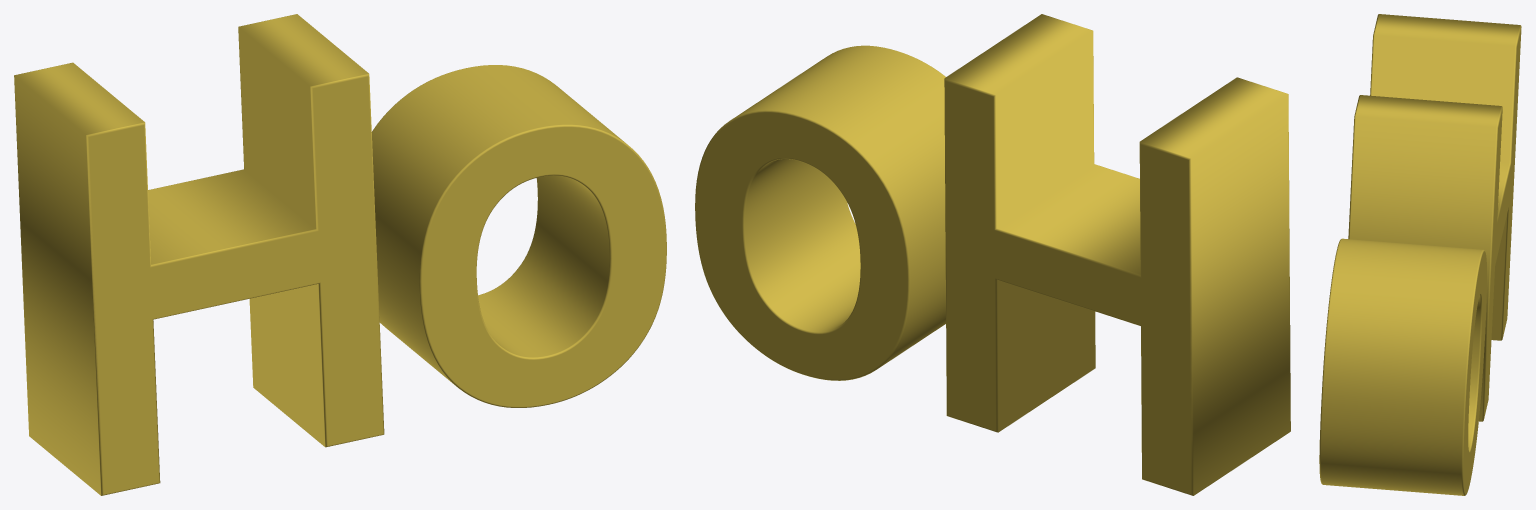
3 views of the same model, side by side, from view 1: azimuth 30°, elevation 25°; view 2: azimuth 150°, elevation 25°; view 3: azimuth 270°, elevation 25° (orthographic). The views are drawn at different scales.
Visible parts, largest first — view 1: Text; view 2: Text; view 3: Text.
Part boxes in pixels (box(x1,y1,x2,y2)): Text: box(14, 14, 666, 495); Text: box(695, 14, 1290, 495); Text: box(1319, 14, 1521, 495).
Bounding box in the file's own units: 225 × 142 × 85.78.
